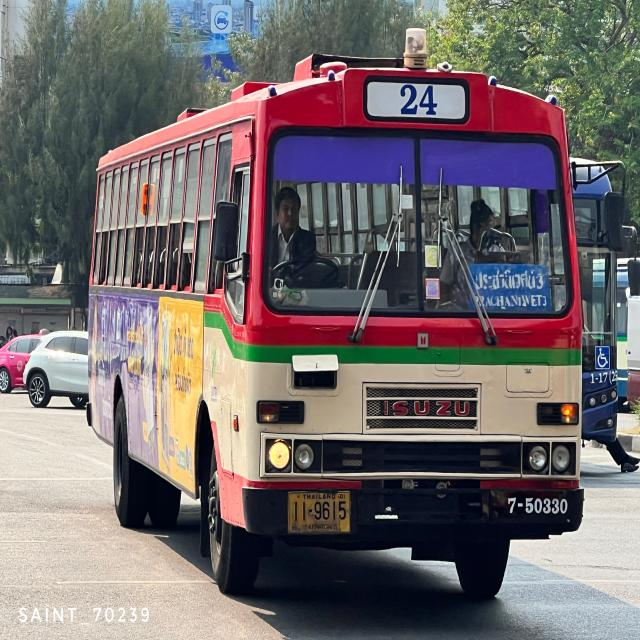BMTA-bus: (84, 9, 586, 632)
Bus-Line-Number: (364, 70, 471, 124)
Destination-Sign-Normal: (468, 263, 554, 319)
